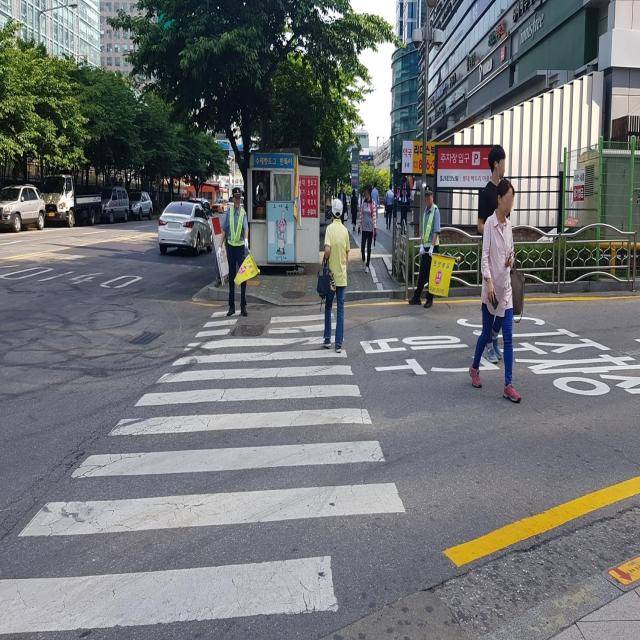횡단보도: (0, 306, 409, 640)
